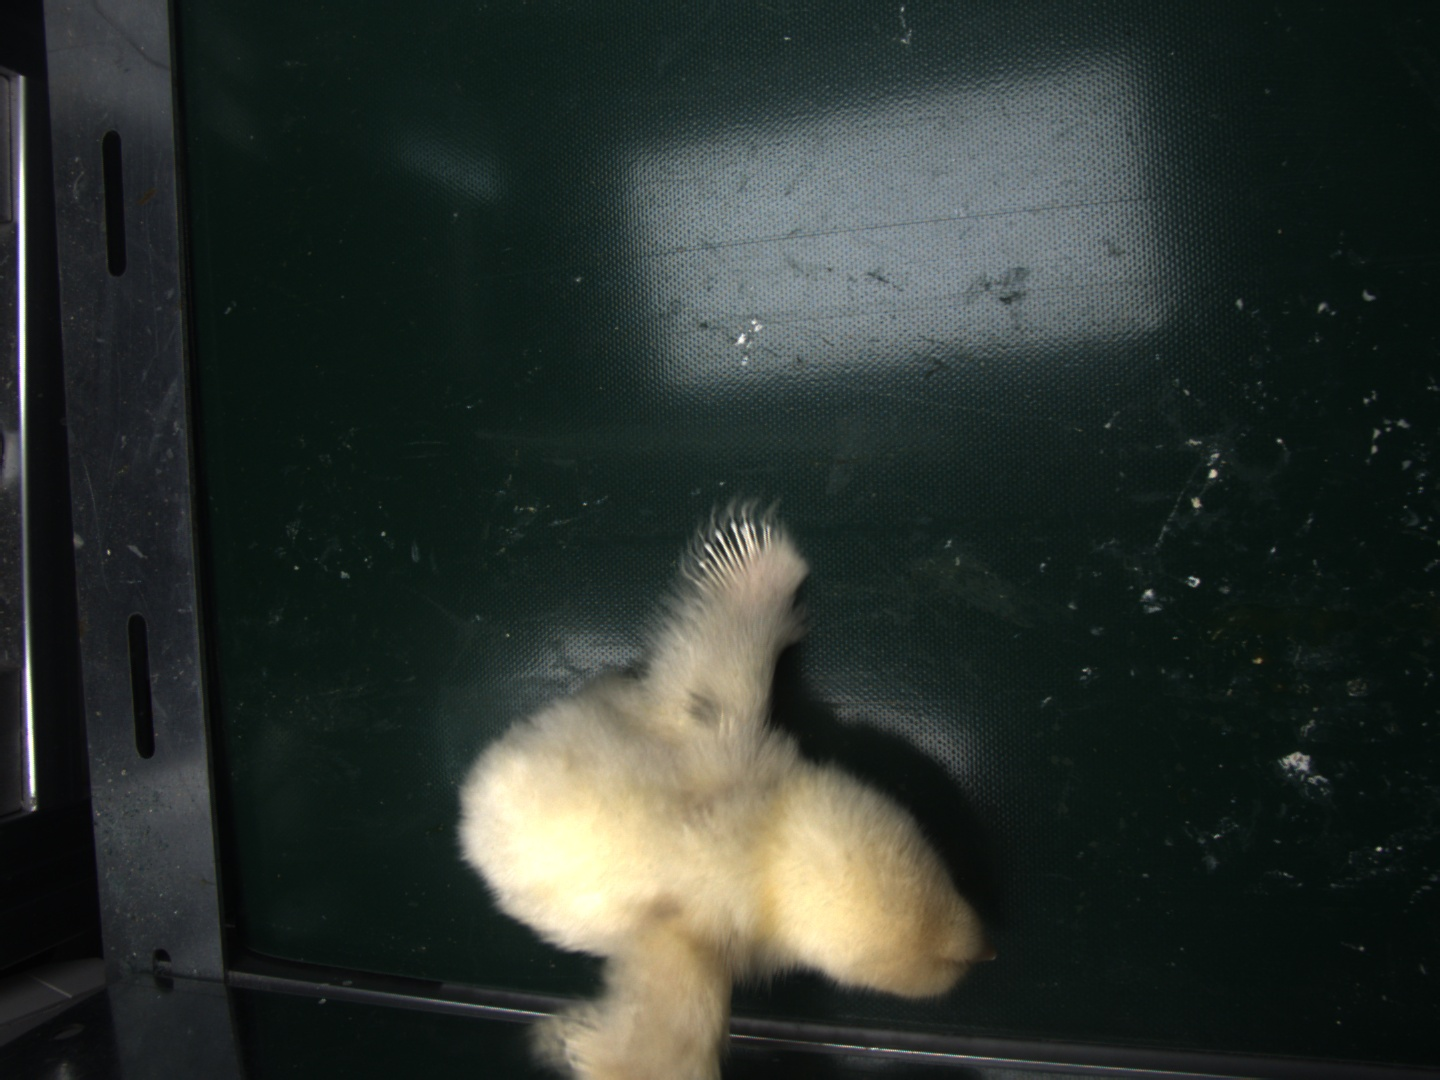male: (696, 524, 771, 593)
